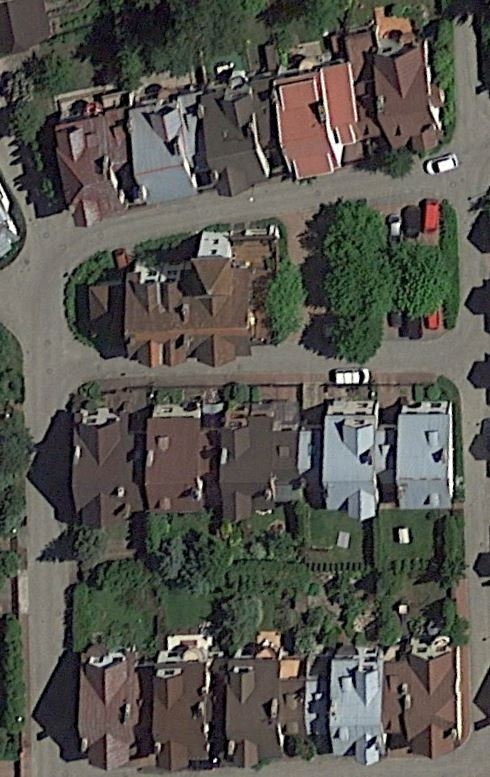block of flats: (114, 224, 263, 380)
terrace house: (47, 16, 447, 235), (67, 622, 473, 777), (61, 394, 464, 539)
